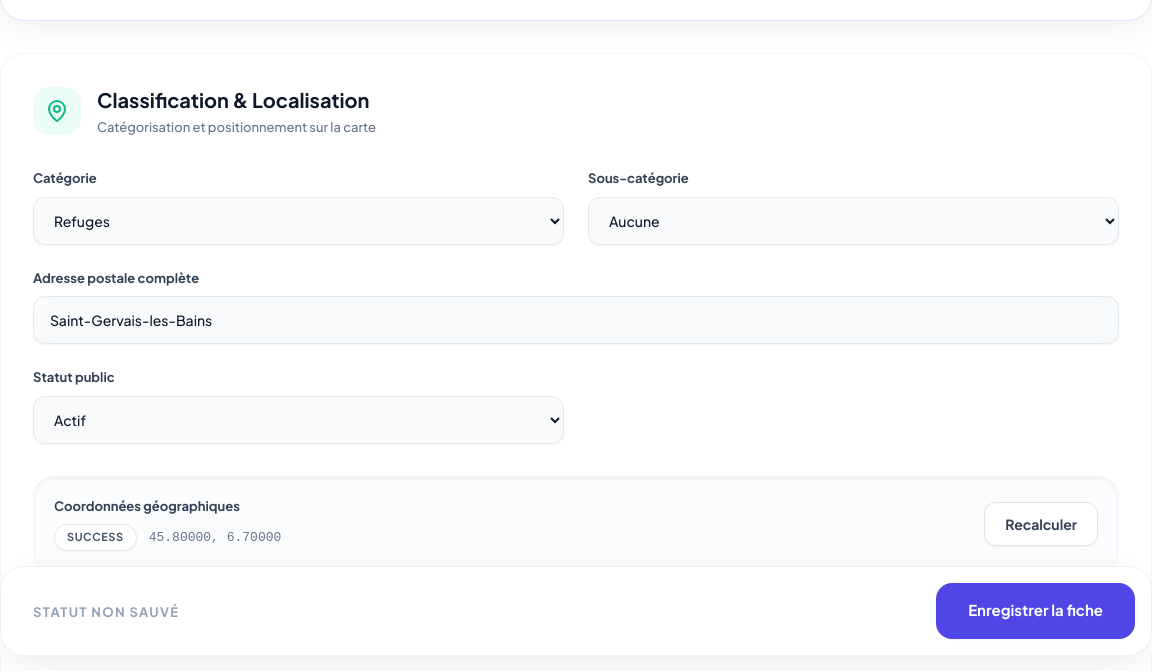
it: requires saving changed identity field Adresse postale complète
(page scrolled)
Replace the text in the field labelled "Adresse postale complète" with "Valeur modifiée" at (576,320), box [33,296,1119,344]
(page scrolled)
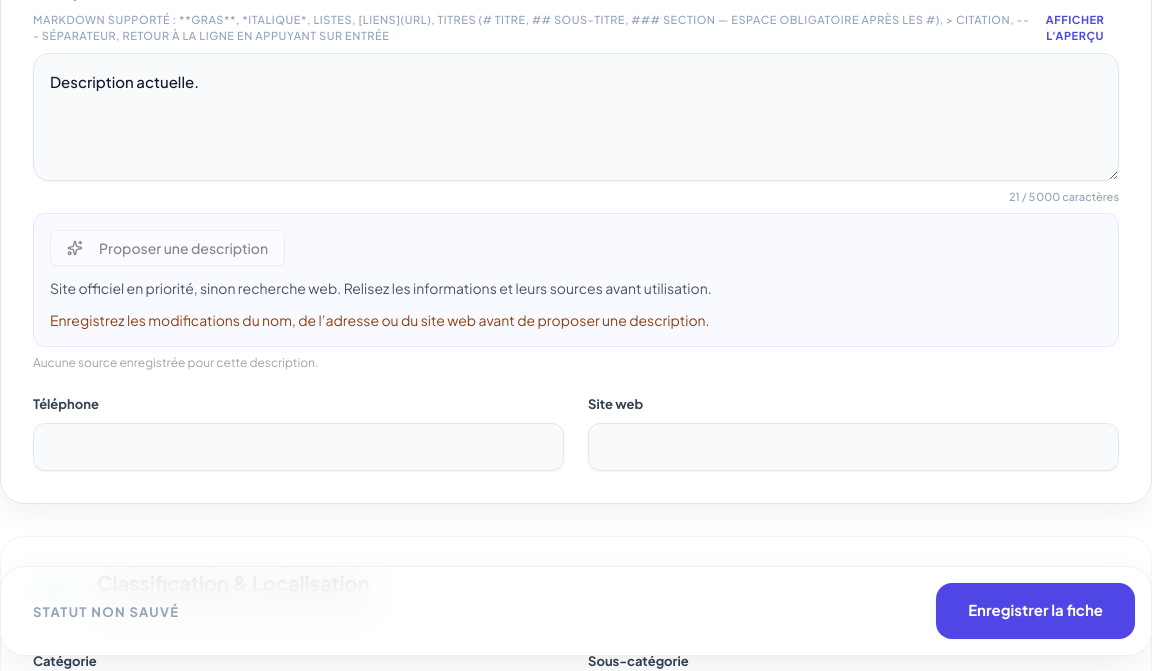
Result: the button "Proposer une description" is disabled at [50,230,285,266]
